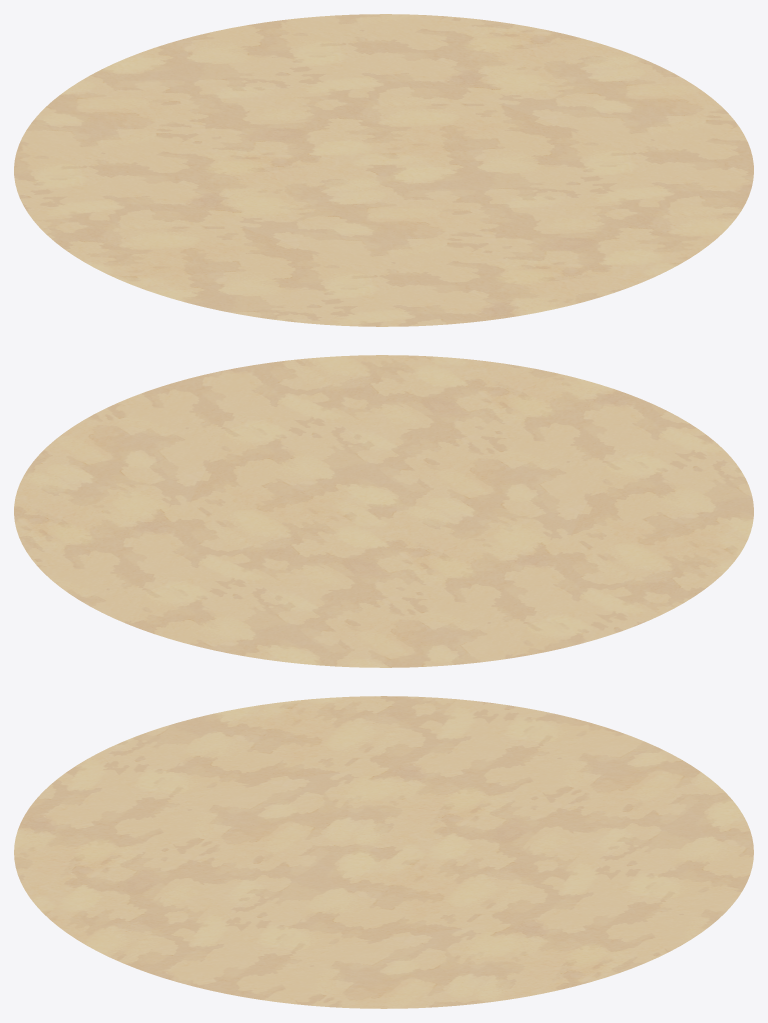
File: city_ground_middle.fbx
3 renders of one model, top to bottom at view 1: azimuth 30°, elevation 25°; view 2: azimuth 150°, elevation 25°; view 3: azimuth 270°, elevation 25°, orthographic.
Visible parts, largest first — view 1: _Based Fin.012; view 2: _Based Fin.012; view 3: _Based Fin.012.
Part boxes in pixels (x1,y1,x2,y2): _Based Fin.012: [14, 14, 753, 326]; _Based Fin.012: [14, 355, 753, 667]; _Based Fin.012: [14, 696, 753, 1008].
Bounding box in the file's own units: 20930 × 0.00341 × 20930.
